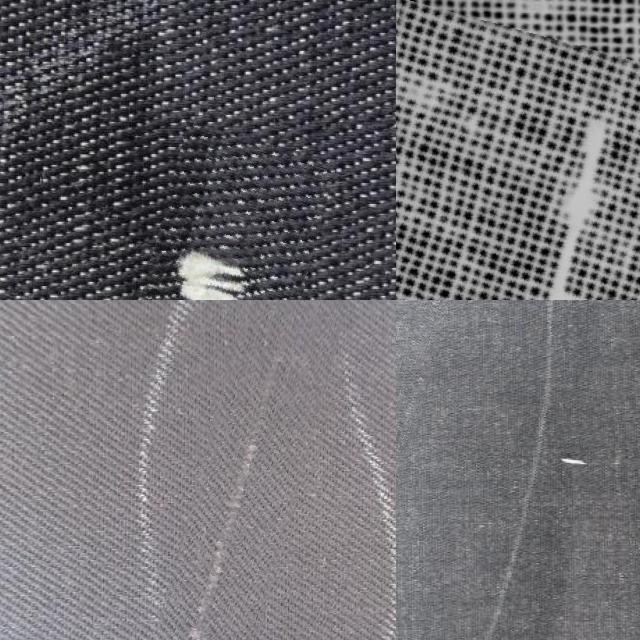Thread_other: (396, 21, 640, 300), (167, 300, 323, 640), (136, 128, 322, 300), (396, 300, 461, 640)
